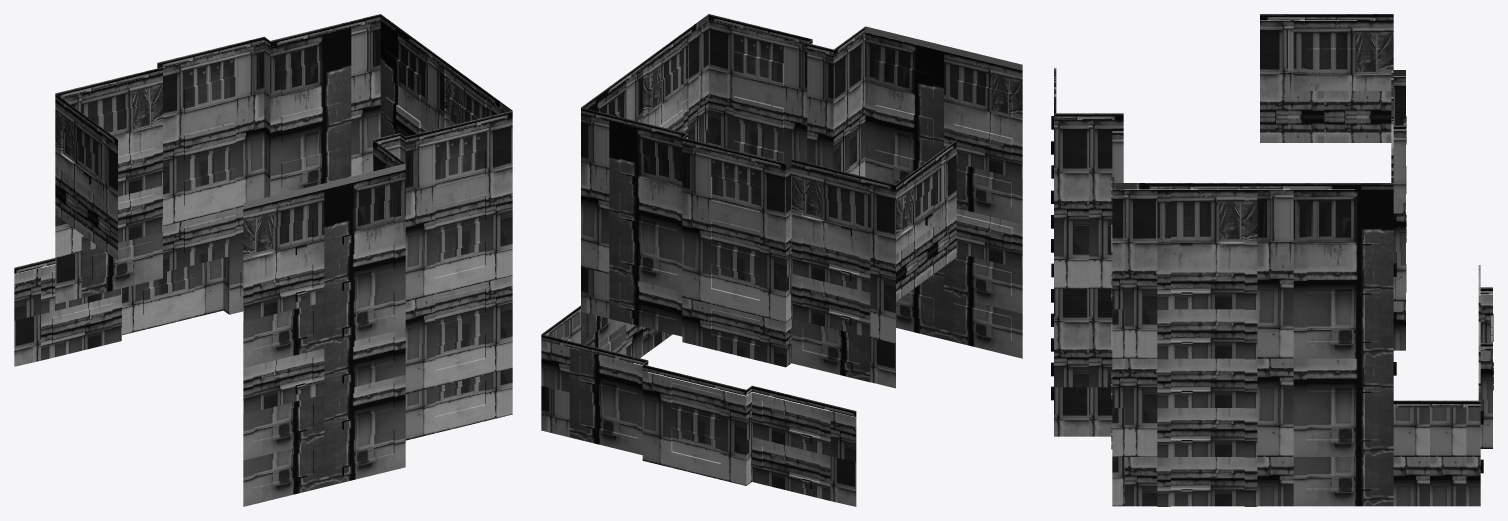
File: skidrow_building_8.fbx
3 views of the same model, side by side, from view 1: azimuth 30°, elevation 25°; view 2: azimuth 150°, elevation 25°; view 3: azimuth 270°, elevation 25° (orthographic). The views are drawn at different scales.
Parts seen in each view (by area): view 1: skidrow_building_8; view 2: skidrow_building_8; view 3: skidrow_building_8.
Part boxes in pixels (x1,y1,x2,y2): skidrow_building_8: [14, 14, 512, 506]; skidrow_building_8: [541, 14, 1022, 506]; skidrow_building_8: [1051, 14, 1493, 506].
Size of the model in its own units: 1285 by 1129 by 1402.
